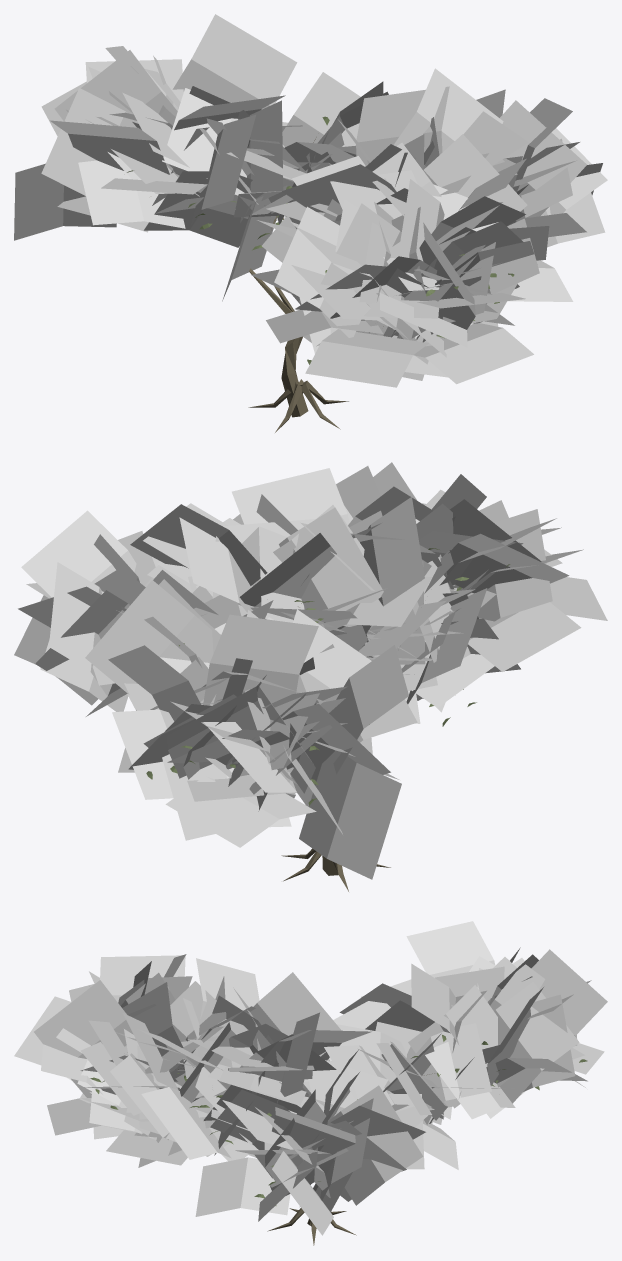
The model's file is Oleastre_Etale_LOD2.fbx.
The picture shows the model from 3 angles, top to bottom: view 1: azimuth 30°, elevation 25°; view 2: azimuth 150°, elevation 25°; view 3: azimuth 270°, elevation 25°; orthographic projection. The views are drawn at different scales.
Parts seen in each view (by area): view 1: Oleastre_Etale_LOD2; view 2: Oleastre_Etale_LOD2; view 3: Oleastre_Etale_LOD2.
Boxes of the visible parts, x1,y1,x2,y2 form: Oleastre_Etale_LOD2: (14, 14, 607, 432); Oleastre_Etale_LOD2: (14, 462, 607, 891); Oleastre_Etale_LOD2: (14, 921, 607, 1245).
Size of the model in its own units: 631 by 403 by 787.
